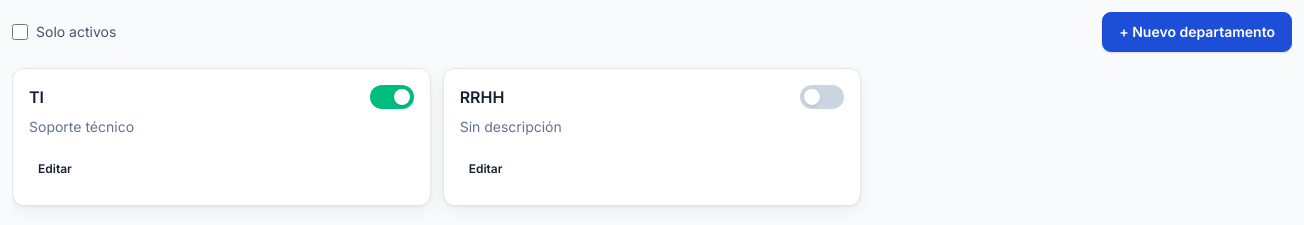
Test: Departments › filtra solo los departamentos activos
expect the text "TI" is shown: met, box 29,85 -> 44,109
Click the checkbox labelled "Solo activos" at point(20, 32), box 12,24 -> 28,40
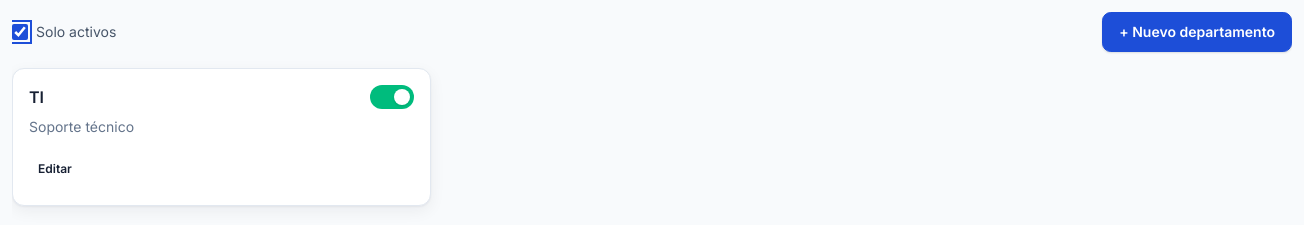
expect the text "TI" is shown: met, box 29,85 -> 44,109
expect the text "RRHH" is gone: met
